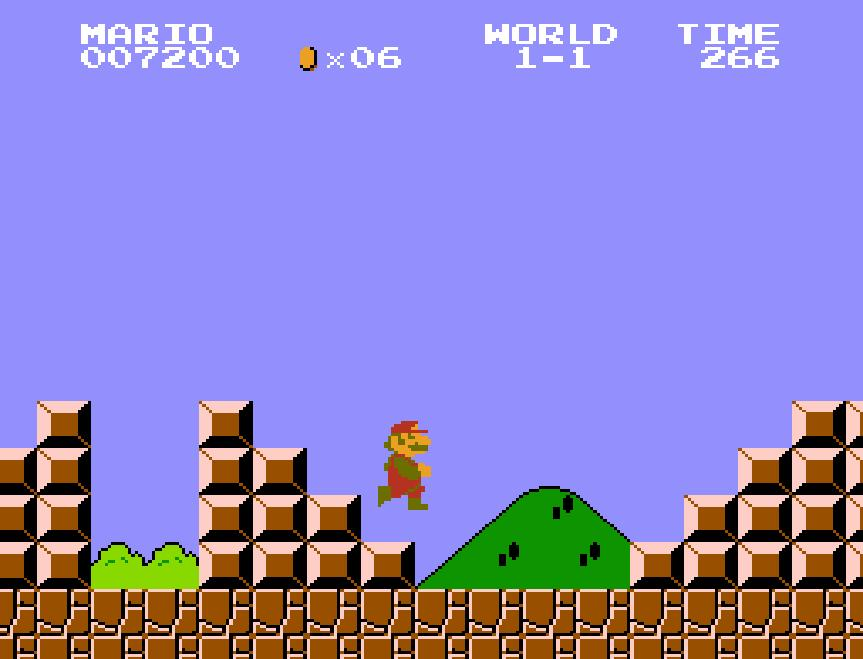big_mario: (376, 414, 434, 512)
